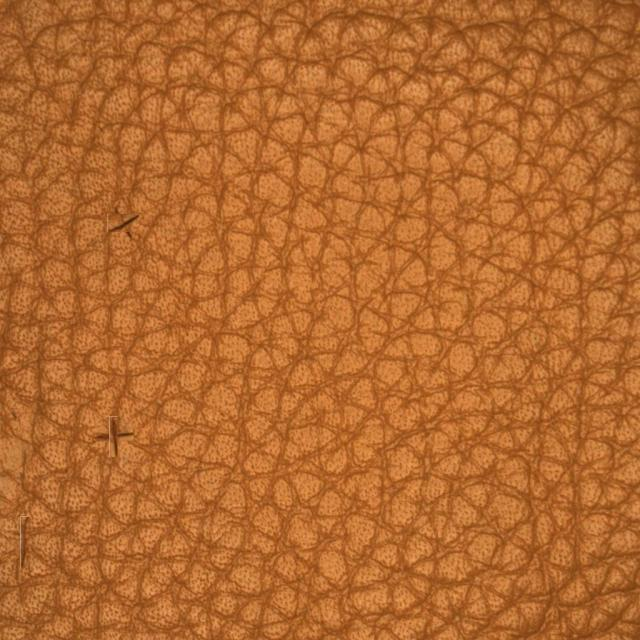Scratch: (38, 371, 216, 504), (56, 154, 202, 313)
